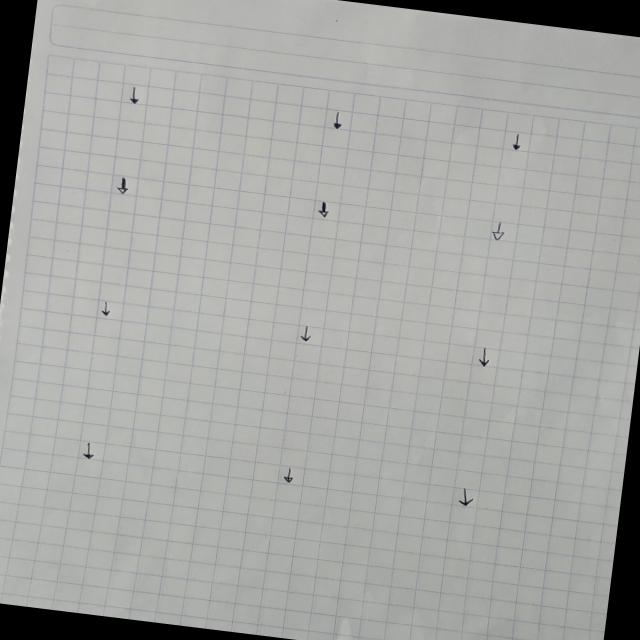arrow_line_down: (452, 485, 476, 510), (472, 343, 493, 368), (313, 198, 332, 220), (112, 174, 130, 197), (295, 322, 313, 344), (327, 109, 345, 130), (488, 220, 505, 242), (508, 130, 524, 152), (79, 438, 95, 460), (125, 84, 141, 105), (279, 465, 295, 484), (98, 299, 112, 317)
